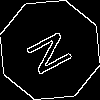N: (25, 25, 83, 78)
